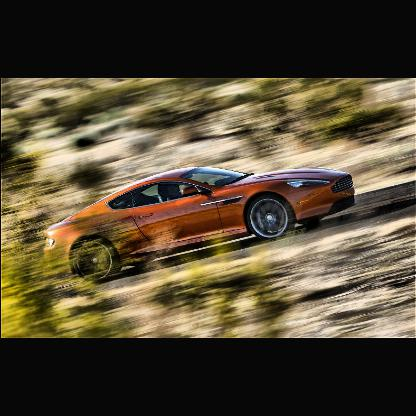Aston Martin Virage Coupe 2012: (43, 165, 359, 284)
